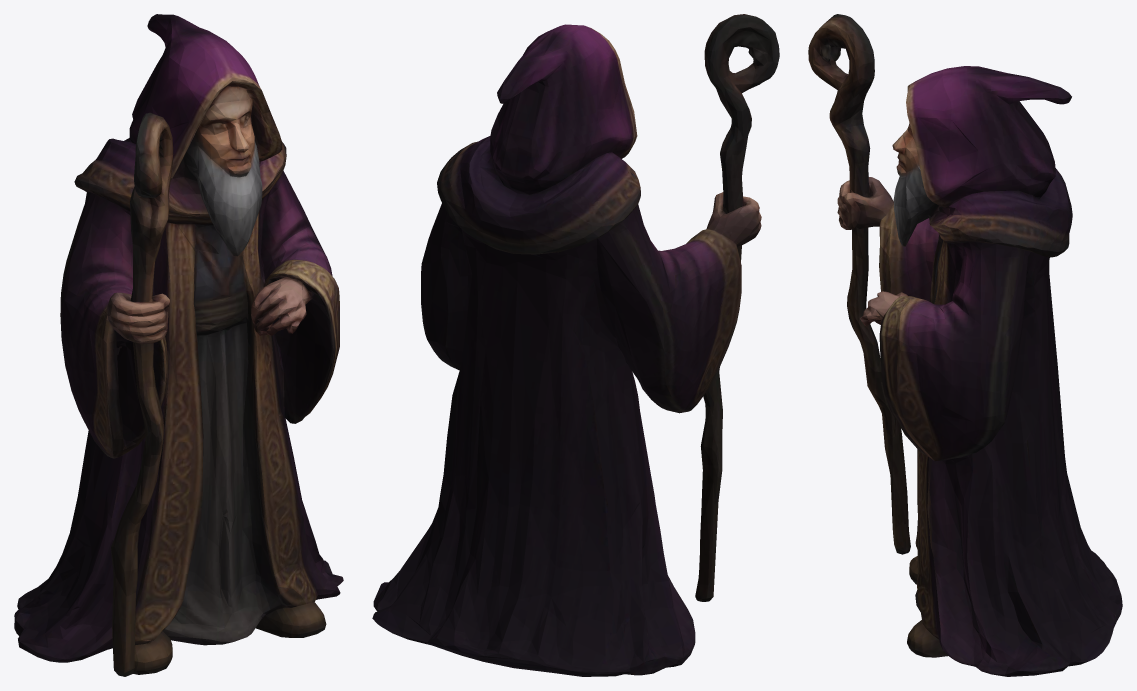
Rendered from mentor.glb.
3 renders of one model, left to right at view 1: azimuth 30°, elevation 25°; view 2: azimuth 150°, elevation 25°; view 3: azimuth 270°, elevation 25°, orthographic. The views are drawn at different scales.
Visible parts, largest first — view 1: world; view 2: world; view 3: world.
Part boxes in pixels (x1,y1,x2,y2): world: [14, 14, 343, 676]; world: [372, 14, 779, 676]; world: [808, 14, 1122, 676].
Size of the model in its own units: 0.5359 by 0.9953 by 0.5172.
Materials: 1 (1 with a texture image).
